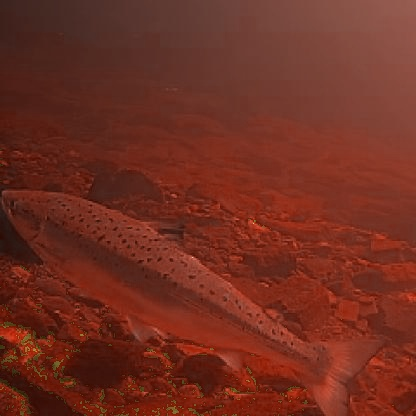salmon: (0, 186, 392, 414)
